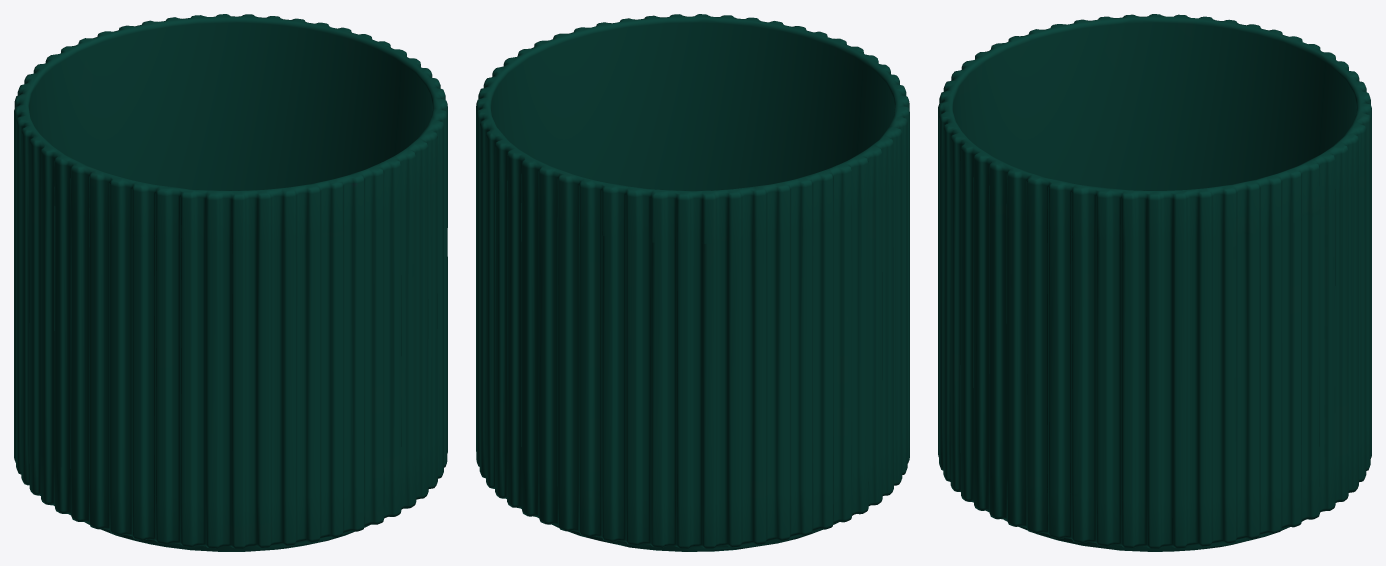
The model's file is daksjus_doniczka_60609231.glb.
3 renders of one model, left to right at view 1: azimuth 30°, elevation 25°; view 2: azimuth 150°, elevation 25°; view 3: azimuth 270°, elevation 25°, orthographic.
Visible parts, largest first — view 1: daksjus_doniczka_60609231; view 2: daksjus_doniczka_60609231; view 3: daksjus_doniczka_60609231.
Part boxes in pixels (x1,y1,x2,y2): daksjus_doniczka_60609231: (14,14,447,551); daksjus_doniczka_60609231: (476,14,909,551); daksjus_doniczka_60609231: (938,14,1371,551).
Bounding box in the file's own units: 0.1438 × 0.135 × 0.1438.
Materials: 1 (1 with a texture image).
